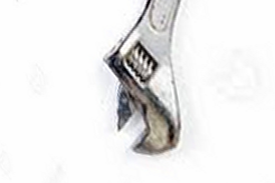Wrench: (90, 2, 205, 157)
